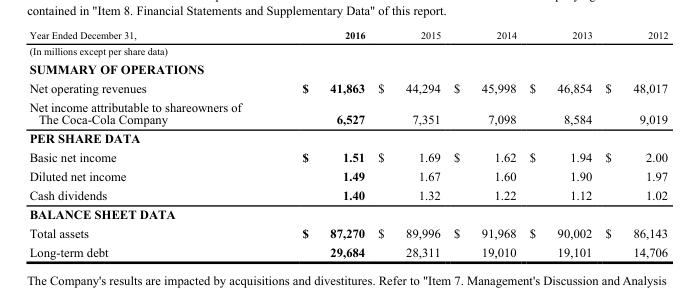table: (28, 28, 667, 258)
table column: (28, 28, 271, 258), (271, 28, 370, 258), (370, 28, 446, 258), (446, 28, 522, 258), (522, 28, 598, 258), (598, 28, 667, 258)
table column header: (28, 28, 667, 42)
table projected row header: (28, 128, 667, 147), (28, 204, 667, 223), (28, 59, 667, 77), (28, 42, 667, 59)
table row: (28, 96, 667, 128), (28, 77, 667, 96), (28, 128, 667, 147), (28, 147, 667, 166), (28, 166, 667, 185), (28, 185, 667, 204), (28, 204, 667, 223), (28, 223, 667, 242), (28, 59, 667, 77), (28, 42, 667, 59), (28, 242, 667, 258), (28, 28, 667, 42)
